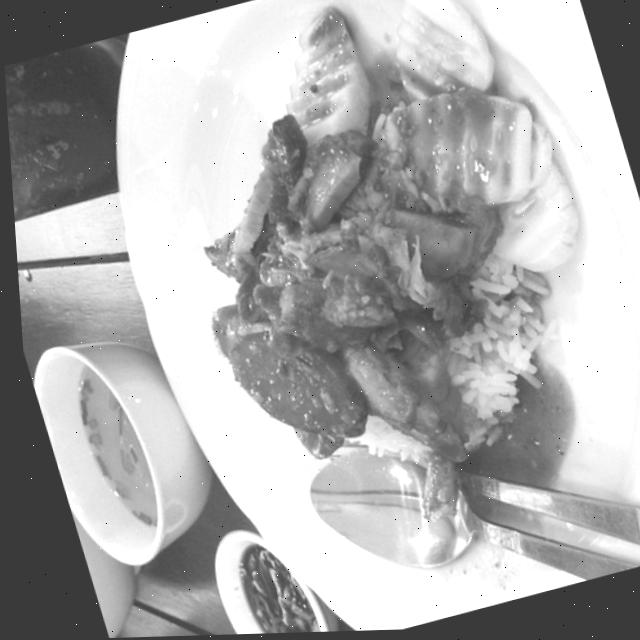猪肉菜式: (39, 0, 640, 639)
